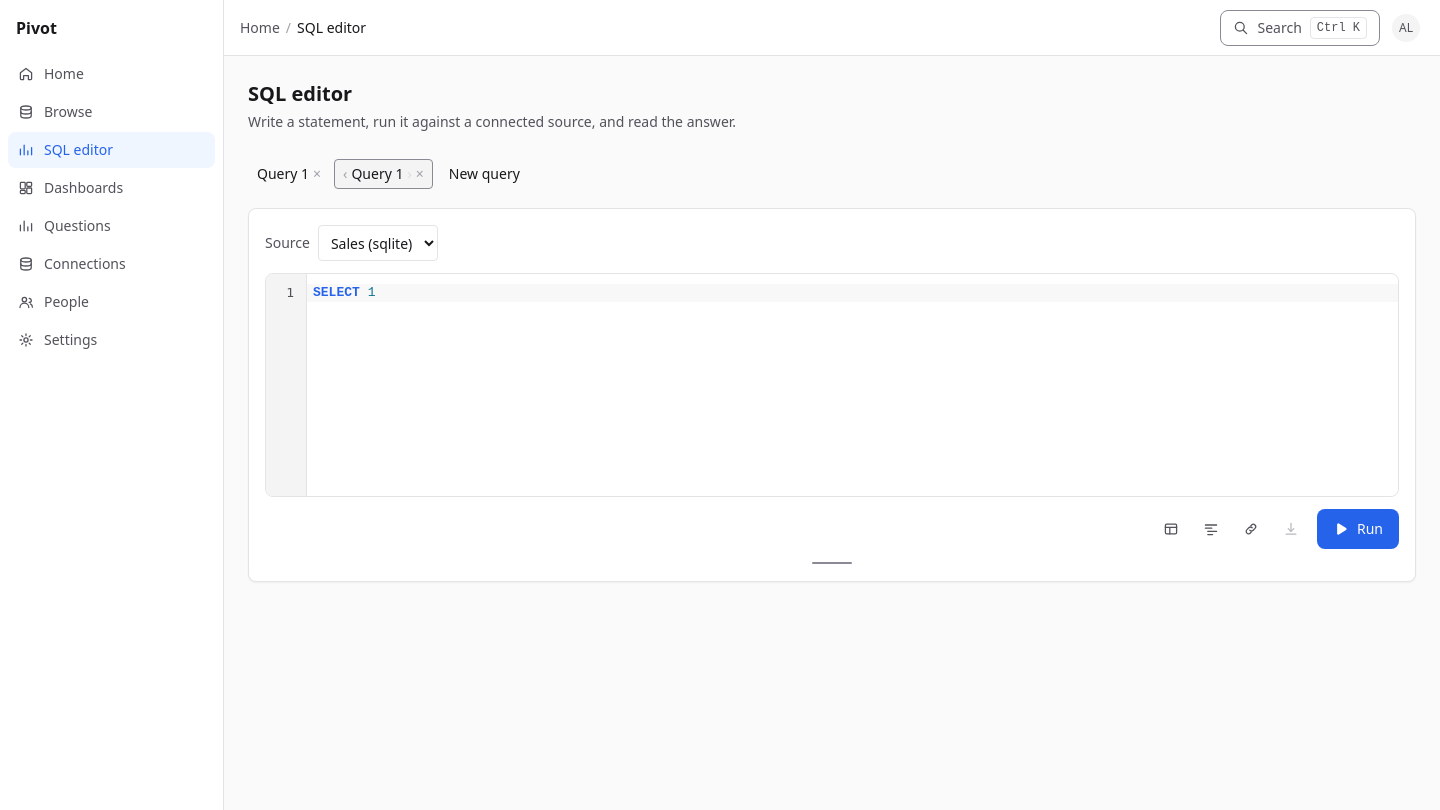
running a statement › says when the result was truncated
Step 1. Click the button "Run" → (1358, 529), box [1317,509,1399,549]
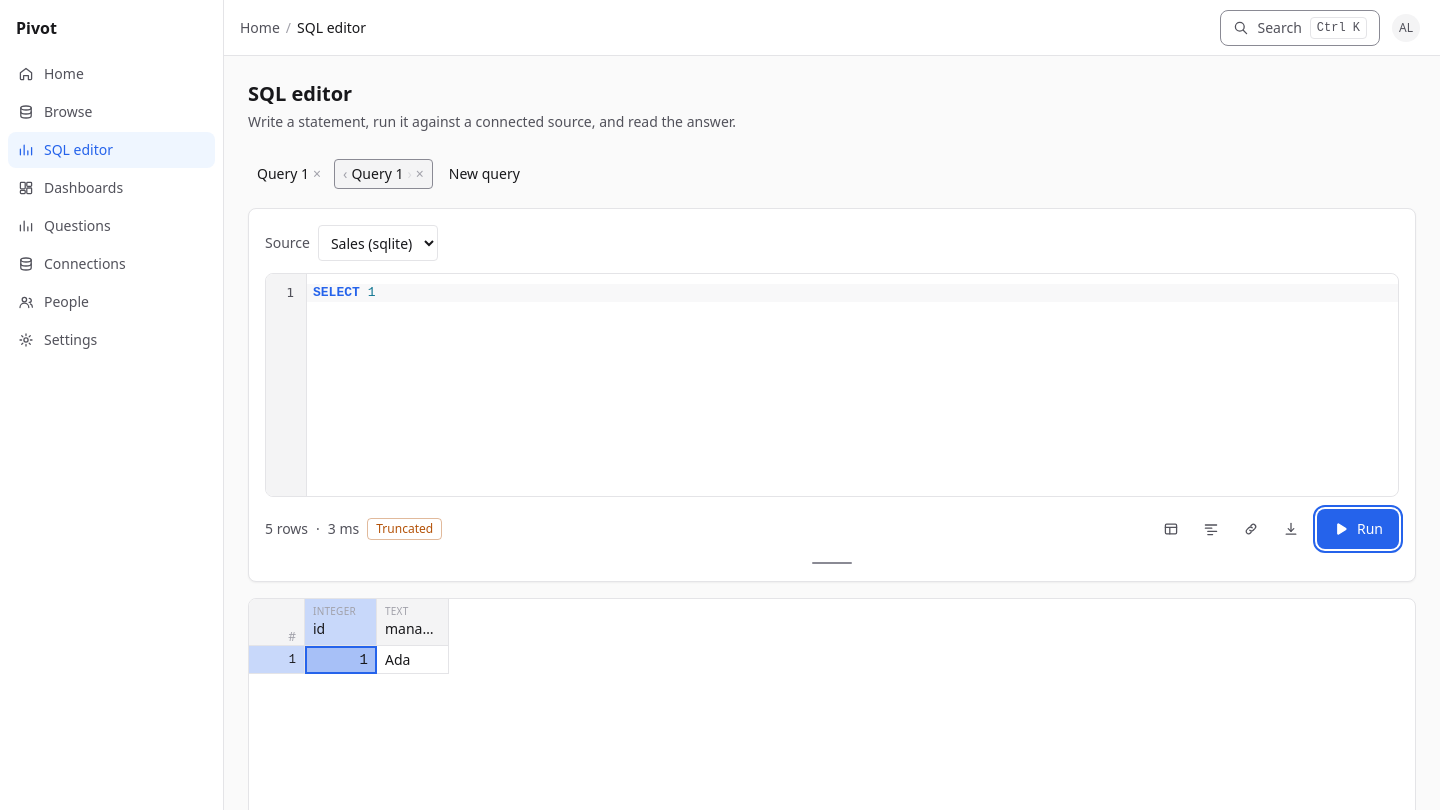
Check: the text "Truncated" is shown, box [367,518,442,540]
